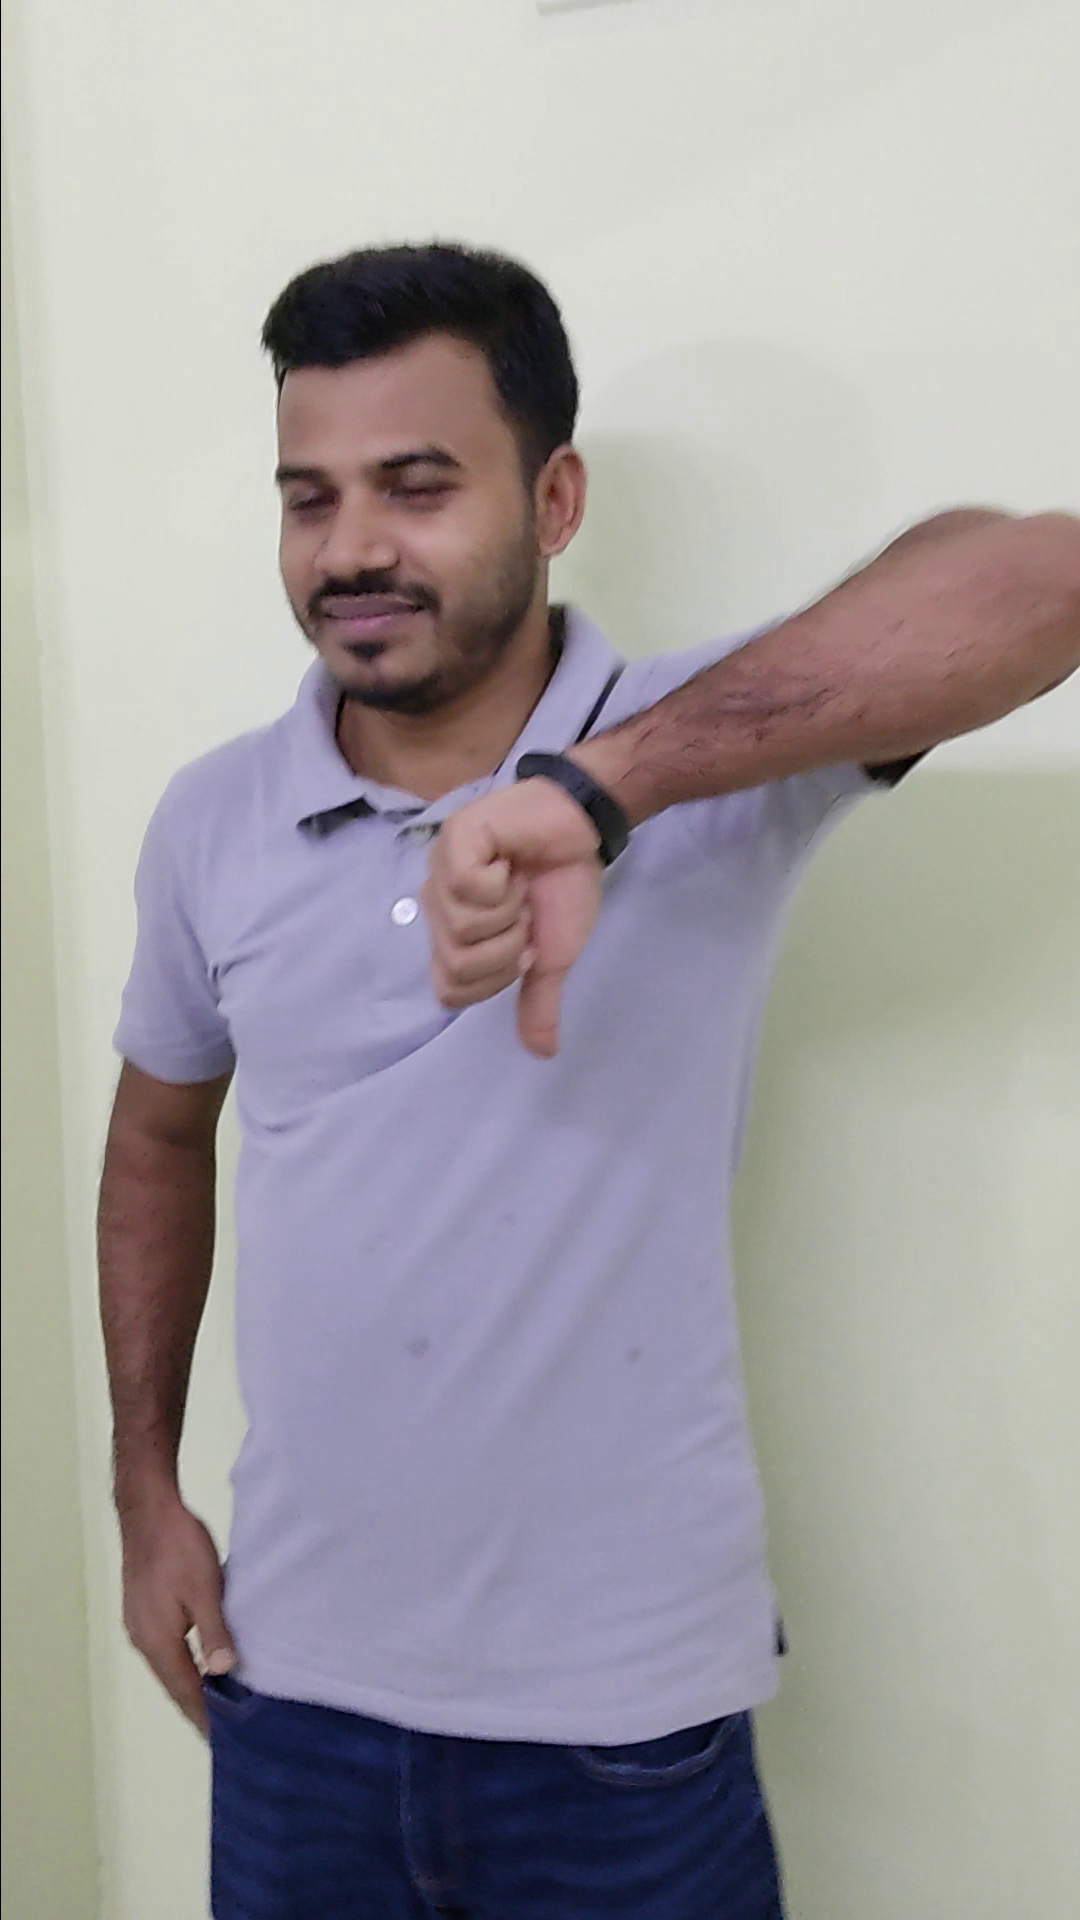Dislike: (393, 737, 618, 1071)
None: (94, 1452, 241, 1745)
